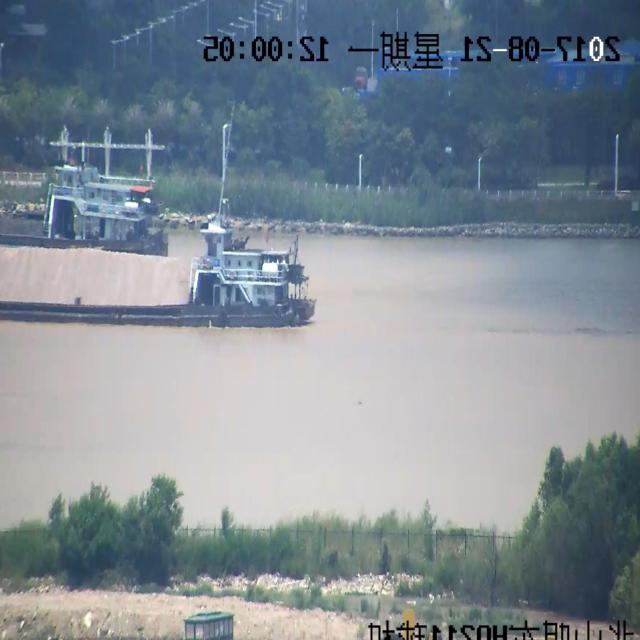cargoship: (0, 180, 294, 339), (0, 141, 180, 246)
